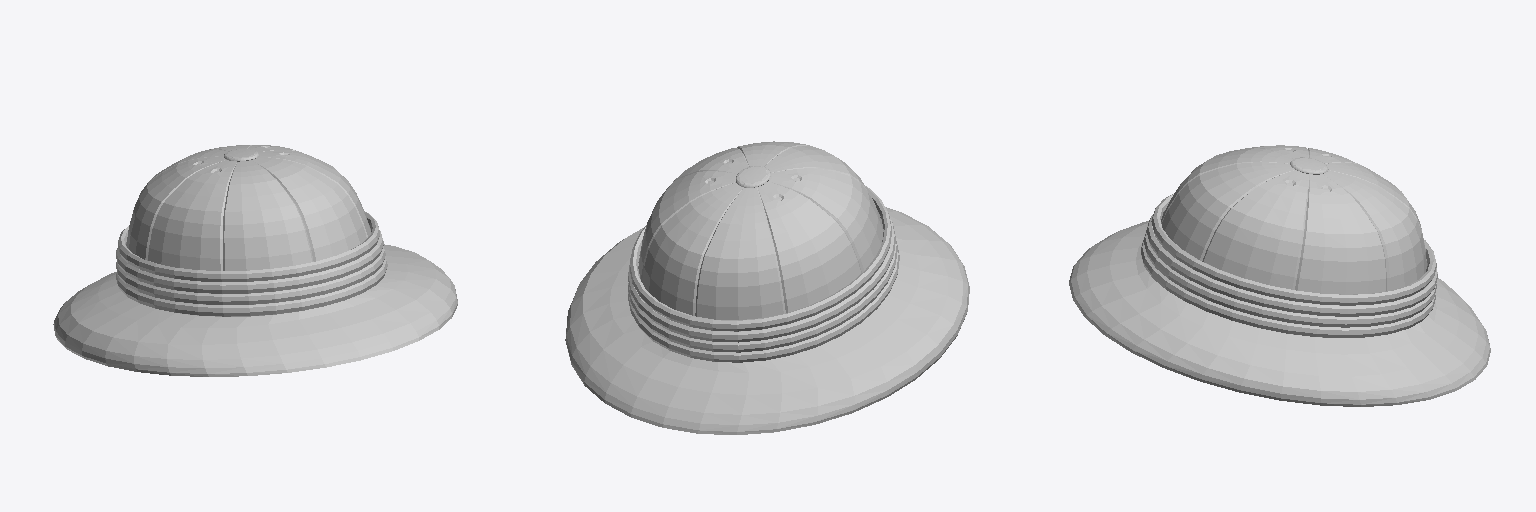
The model's file is pith_helmet.obj.
3 views of the same model, side by side, from view 1: azimuth 30°, elevation 25°; view 2: azimuth 150°, elevation 25°; view 3: azimuth 270°, elevation 25° (orthographic).
Size of the model in its own units: 3.22 by 1.68 by 3.4.